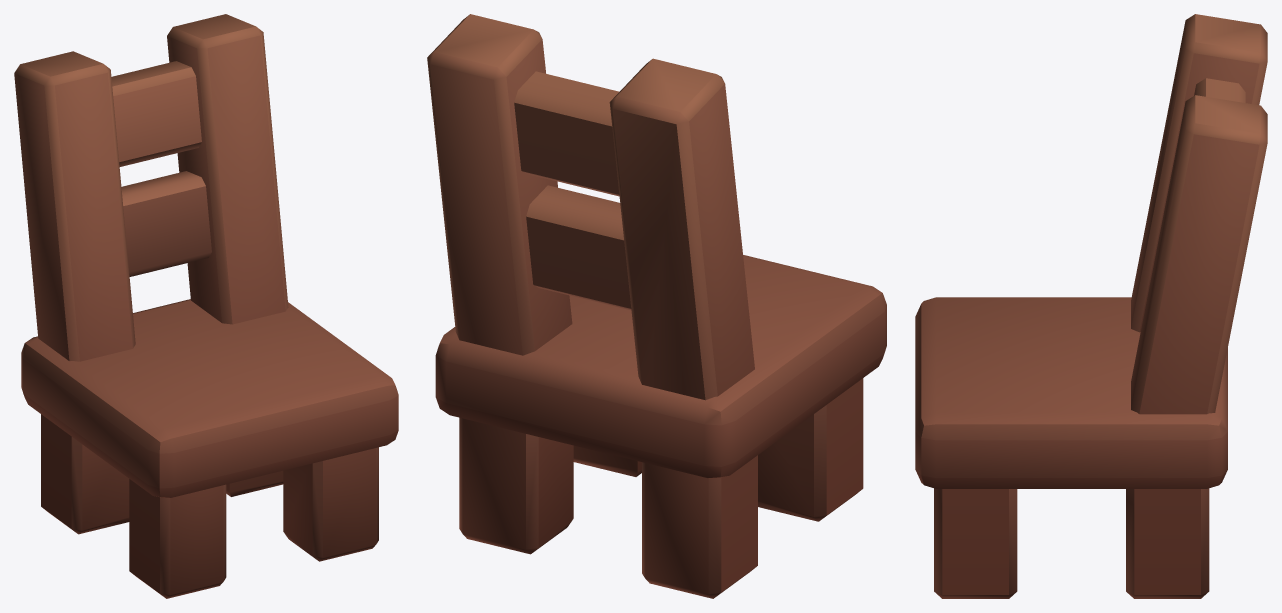
Rendered from K_chair_A_wood.glb.
3 renders of one model, left to right at view 1: azimuth 30°, elevation 25°; view 2: azimuth 150°, elevation 25°; view 3: azimuth 270°, elevation 25°, orthographic. The views are drawn at different scales.
Parts seen in each view (by area): view 1: chair_A_wood; view 2: chair_A_wood; view 3: chair_A_wood.
Boxes of the visible parts, x1,y1,x2,y2 form: chair_A_wood: (14,14,398,598); chair_A_wood: (427,14,886,598); chair_A_wood: (915,14,1267,598).
Size of the model in its own units: 0.75 by 1.26 by 0.8451.
